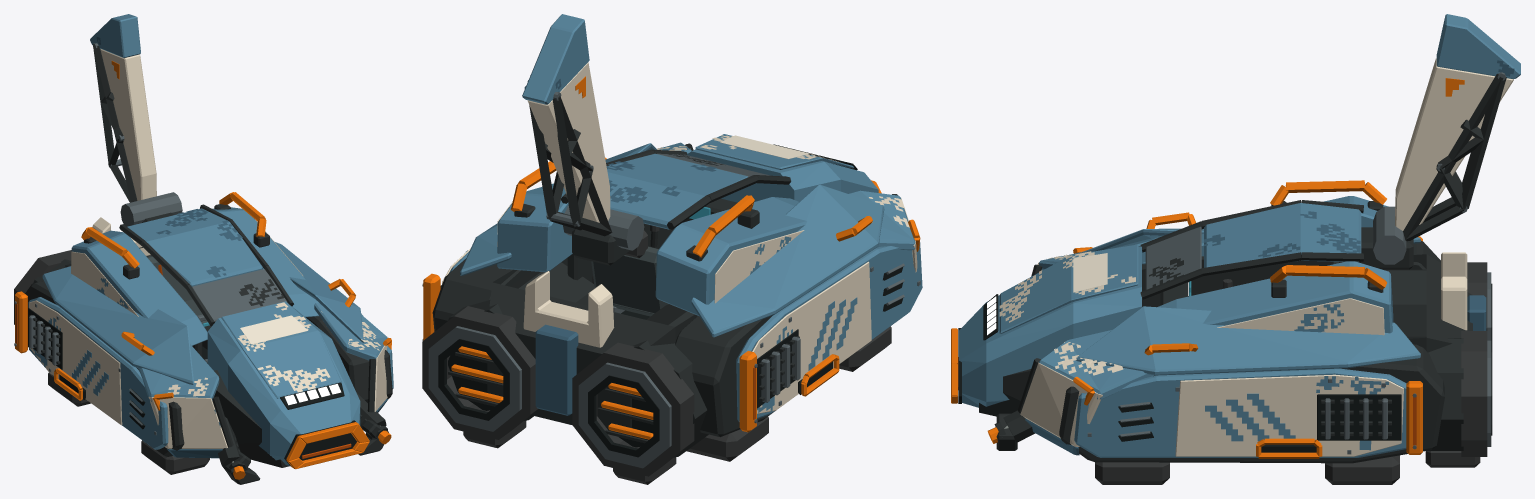
Rendered from zud-033.glb.
3 views of the same model, side by side, from view 1: azimuth 30°, elevation 25°; view 2: azimuth 150°, elevation 25°; view 3: azimuth 270°, elevation 25° (orthographic). The views are drawn at different scales.
Visible parts, largest first — view 1: 033 morro azul facetado, 033 placa superior sponson izquierda, 033 cubierta desmontable azul, 033 placa superior morro, 033 bloque macizo hombro izquierda, 033 hoja marfil mástil, 033 placa marfil lateral izquierda, 033 blindaje lateral azul izquierda, 033 visor delantero ahumado, 033 mejilla marfil frontal izquierda, 033 bloque macizo hombro derecha, 033 placa superior sponson derecha (+29 smaller); view 2: 033 placa superior sponson izquierda, 033 bloque macizo hombro izquierda, 033 placa marfil lateral izquierda, 033 casco central inferior, 033 cubierta desmontable azul, 033 carcasa tobera octogonal, 033 armazón lateral izquierda, 033 blindaje lateral azul izquierda, 033 hoja marfil mástil, 033 carcasa tobera octogonal.001, 033 bloque macizo hombro derecha, 033 morro azul facetado (+34 smaller); view 3: 033 placa superior sponson derecha, 033 placa marfil lateral derecha, 033 morro azul facetado, 033 blindaje lateral azul derecha, 033 hoja marfil mástil, 033 cubierta desmontable azul, 033 bloque macizo hombro derecha, 033 armazón lateral derecha, 033 placa superior morro, 033 casco central inferior, 033 carcasa tobera octogonal.001, 033 remate azul mástil (+31 smaller).
Part boxes in pixels (x1,y1,x2,y2): 033 morro azul facetado: [207, 307, 360, 465]; 033 placa superior sponson izquierda: [42, 266, 193, 384]; 033 cubierta desmontable azul: [127, 208, 262, 286]; 033 placa superior morro: [221, 301, 341, 398]; 033 bloque macizo hombro izquierda: [71, 230, 207, 345]; 033 hoja marfil mástil: [100, 49, 156, 200]; 033 placa marfil lateral izquierda: [29, 300, 122, 425]; 033 blindaje lateral azul izquierda: [28, 297, 168, 449]; 033 visor delantero ahumado: [192, 269, 286, 321]; 033 mejilla marfil frontal izquierda: [148, 396, 227, 448]; 033 bloque macizo hombro derecha: [212, 207, 319, 317]; 033 placa superior sponson derecha: [275, 242, 364, 342]; 033 placa superior sponson izquierda: [691, 184, 884, 337]; 033 bloque macizo hombro izquierda: [655, 197, 806, 315]; 033 placa marfil lateral izquierda: [752, 261, 871, 413]; 033 casco central inferior: [487, 229, 697, 435]; 033 cubierta desmontable azul: [607, 153, 747, 229]; 033 carcasa tobera octogonal: [572, 342, 694, 476]; 033 armazón lateral izquierda: [675, 316, 775, 437]; 033 blindaje lateral azul izquierda: [736, 242, 922, 421]; 033 hoja marfil mástil: [527, 62, 610, 222]; 033 carcasa tobera octogonal.001: [422, 306, 537, 439]; 033 bloque macizo hombro derecha: [497, 183, 572, 272]; 033 morro azul facetado: [687, 149, 878, 202]; 033 placa superior sponson derecha: [1076, 306, 1420, 375]; 033 placa marfil lateral derecha: [1175, 374, 1403, 456]; 033 morro azul facetado: [959, 246, 1141, 407]; 033 blindaje lateral azul derecha: [1074, 368, 1406, 457]; 033 hoja marfil mástil: [1395, 58, 1513, 230]; 033 cubierta desmontable azul: [1204, 203, 1361, 267]; 033 bloque macizo hombro derecha: [1157, 261, 1393, 333]; 033 armazón lateral derecha: [1059, 344, 1444, 463]; 033 placa superior morro: [999, 244, 1138, 333]; 033 casco central inferior: [979, 254, 1472, 416]; 033 carcasa tobera octogonal.001: [1461, 331, 1487, 456]; 033 remate azul mástil: [1436, 14, 1520, 79].
Size of the model in its own units: 3.02 by 3.78 by 4.78.
